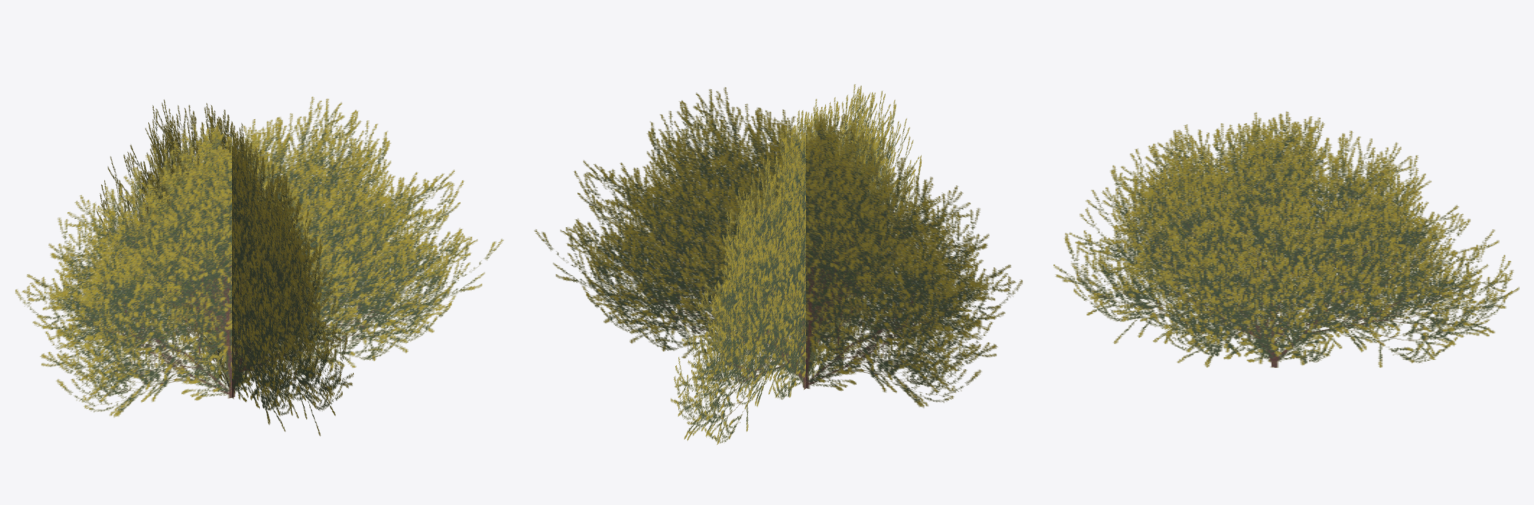
File: SpartiumJunceum.glb
3 views of the same model, side by side, from view 1: azimuth 30°, elevation 25°; view 2: azimuth 150°, elevation 25°; view 3: azimuth 270°, elevation 25° (orthographic). The views are drawn at different scales.
Parts seen in each view (by area): view 1: mesh__mat_billboard_14; view 2: mesh__mat_billboard_14; view 3: mesh__mat_billboard_14.
Boxes of the visible parts, bbox=[...] form: mesh__mat_billboard_14: bbox=[15, 96, 503, 435]; mesh__mat_billboard_14: bbox=[534, 84, 1022, 444]; mesh__mat_billboard_14: bbox=[1053, 111, 1519, 367].
Bounding box in the file's own units: 5.87 × 3.29 × 5.36.
Materials: 1 (1 with a texture image).
